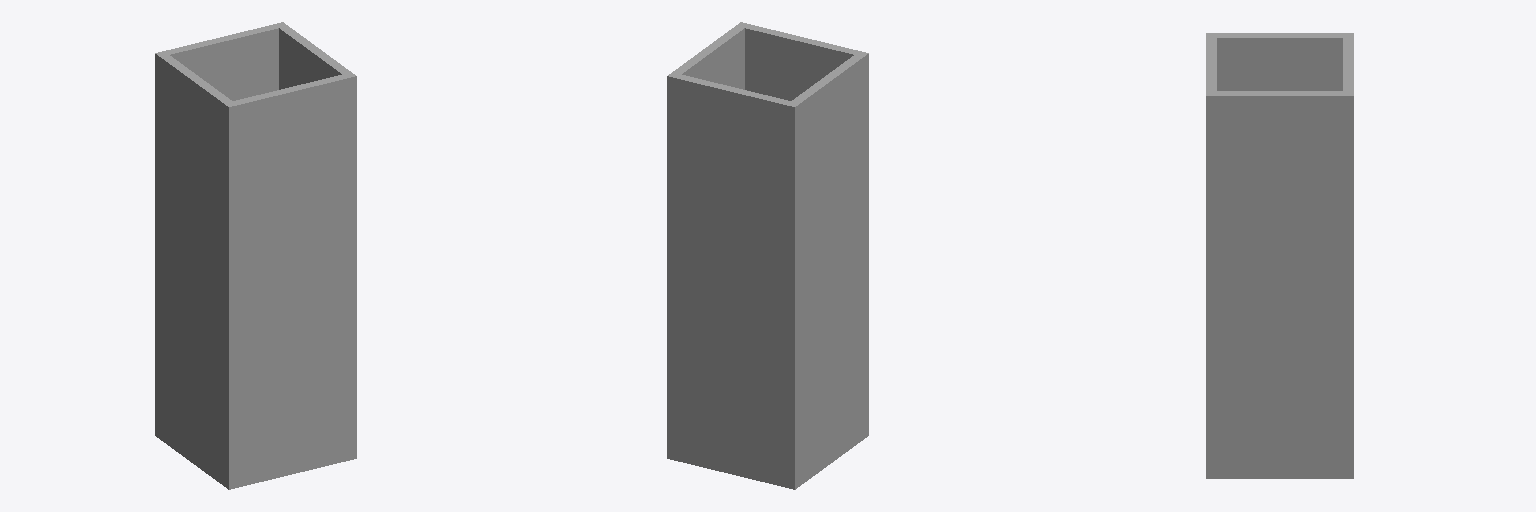
The model's file is Shaft4m.obj.
The picture shows the model from 3 angles: view 1: azimuth 30°, elevation 25°; view 2: azimuth 150°, elevation 25°; view 3: azimuth 270°, elevation 25°; orthographic projection.
Visible parts, largest first — view 1: Shaft4m_Main-Aluminum; view 2: Shaft4m_Main-Aluminum; view 3: Shaft4m_Main-Aluminum.
Part boxes in pixels (x1,y1,x2,y2): Shaft4m_Main-Aluminum: (155, 22, 356, 489); Shaft4m_Main-Aluminum: (667, 22, 868, 489); Shaft4m_Main-Aluminum: (1206, 33, 1353, 478).
Size of the model in its own units: 1.4 by 4 by 1.4.